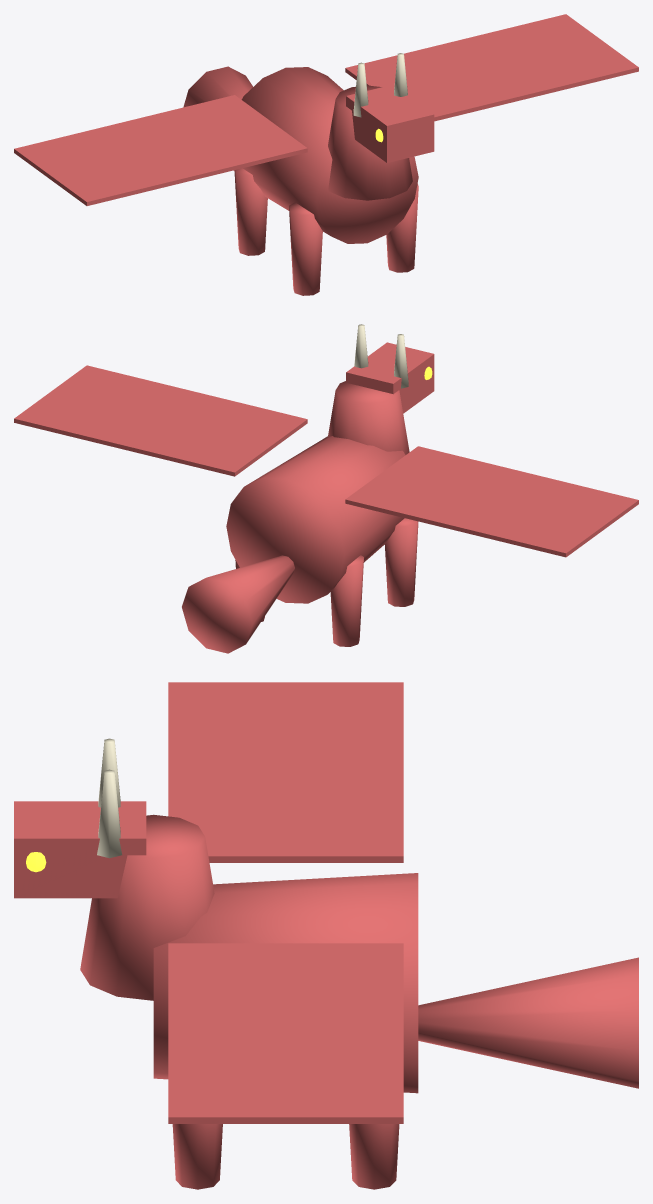
3 views of the same model, one above another, from view 1: azimuth 30°, elevation 25°; view 2: azimuth 150°, elevation 25°; view 3: azimuth 270°, elevation 25° (orthographic). The views are drawn at different scales.
Parts seen in each view (by area): view 1: Generated3DMesh; view 2: Generated3DMesh; view 3: Generated3DMesh.
Boxes of the visible parts, box(x1,y1,x2,y2) form: Generated3DMesh: box(14, 14, 638, 295); Generated3DMesh: box(14, 324, 638, 653); Generated3DMesh: box(14, 682, 638, 1189).
Bounding box in the file's own units: 7 × 2.9 × 4.25.
